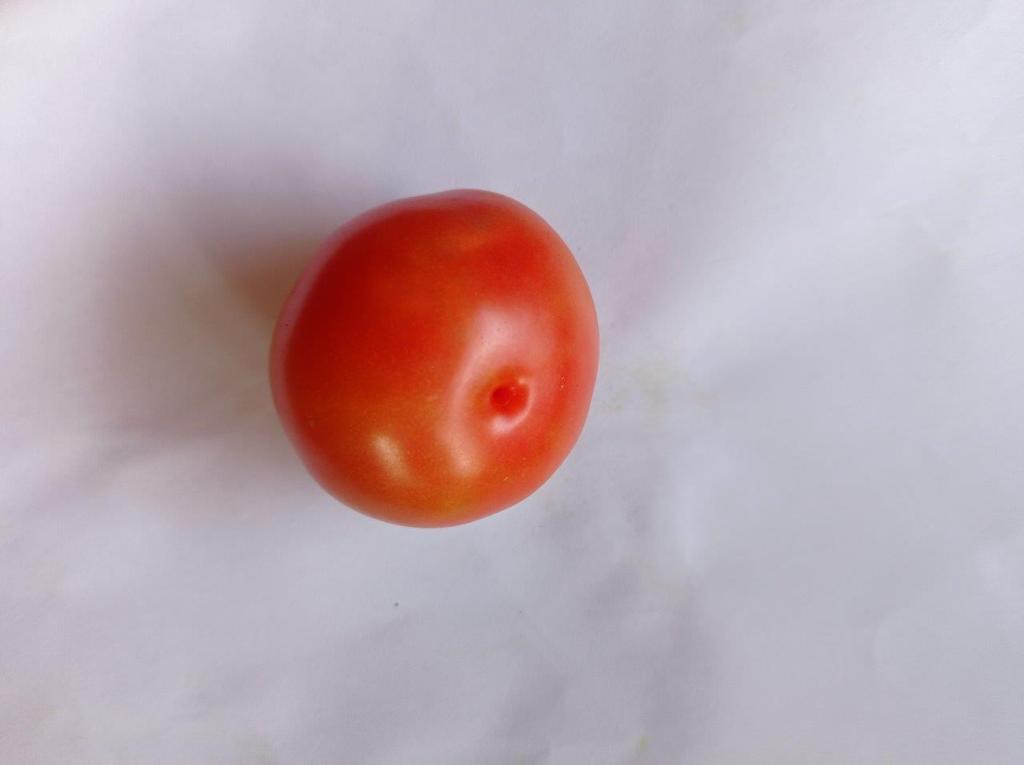tomato: (270, 190, 598, 526)
